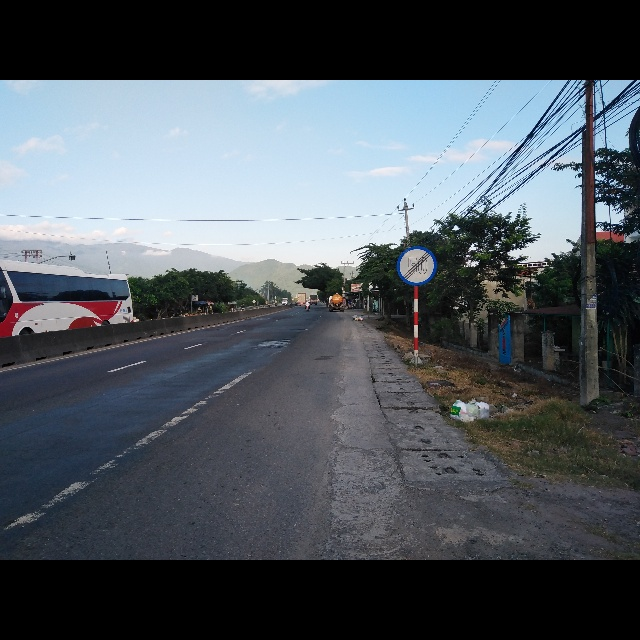Hết hạn chế tốc độ tối đa 50km/h: (395, 245, 439, 288)
